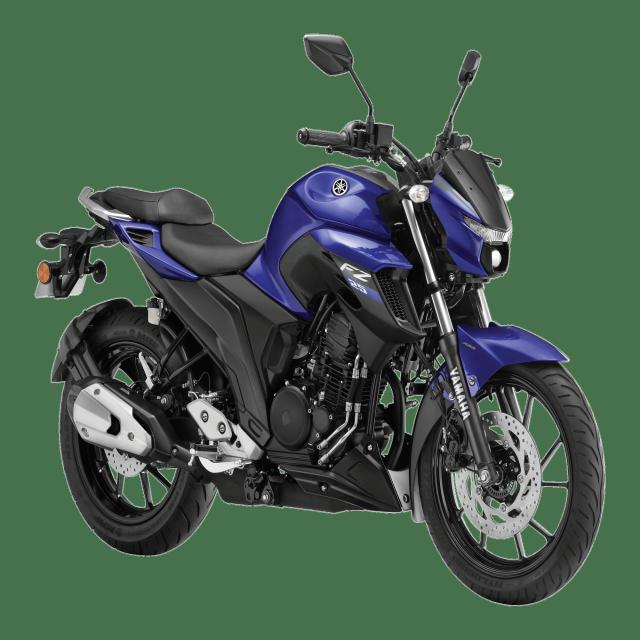Bike: (24, 35, 602, 585)
